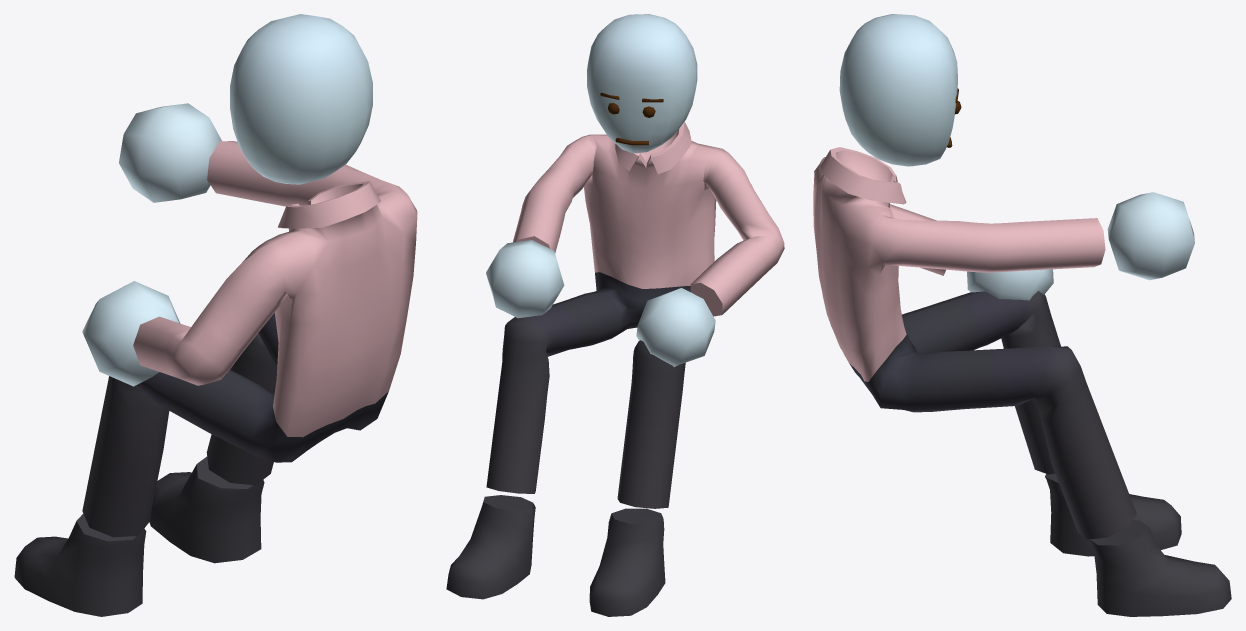
Rendered from npc3.fbx.
3 views of the same model, side by side, from view 1: azimuth 30°, elevation 25°; view 2: azimuth 150°, elevation 25°; view 3: azimuth 270°, elevation 25° (orthographic). The views are drawn at different scales.
Parts seen in each view (by area): view 1: npc3; view 2: npc3; view 3: npc3.
Part boxes in pixels (box(x1,y1,x2,y2)): npc3: box(14, 14, 417, 616); npc3: box(446, 14, 784, 616); npc3: box(813, 14, 1231, 616).
Size of the model in its own units: 56.66 by 132 by 88.69.
